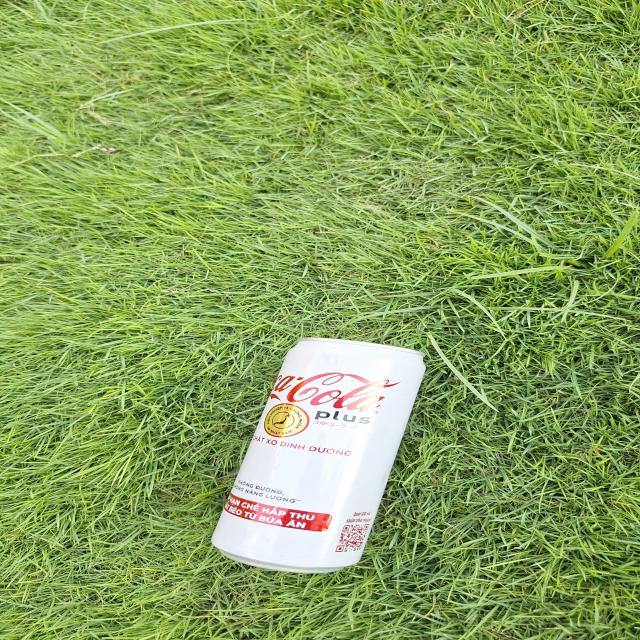Coca Cola Plus: (205, 333, 435, 585)
